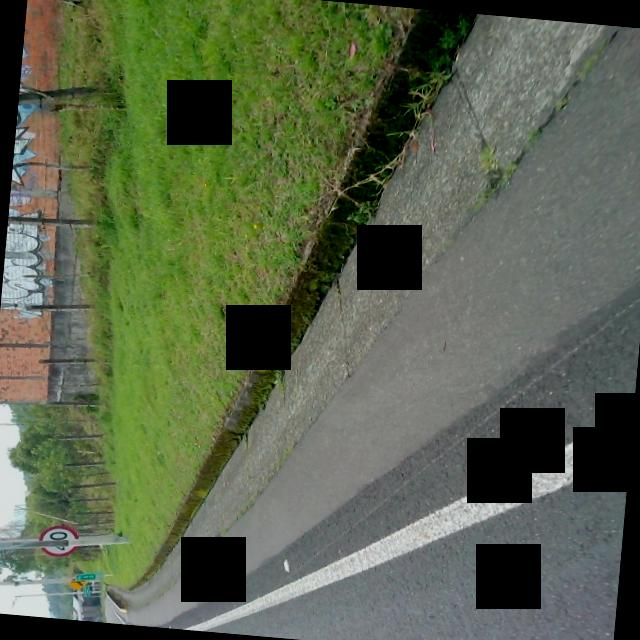DITCH: (72, 0, 640, 640), (97, 0, 640, 640)
